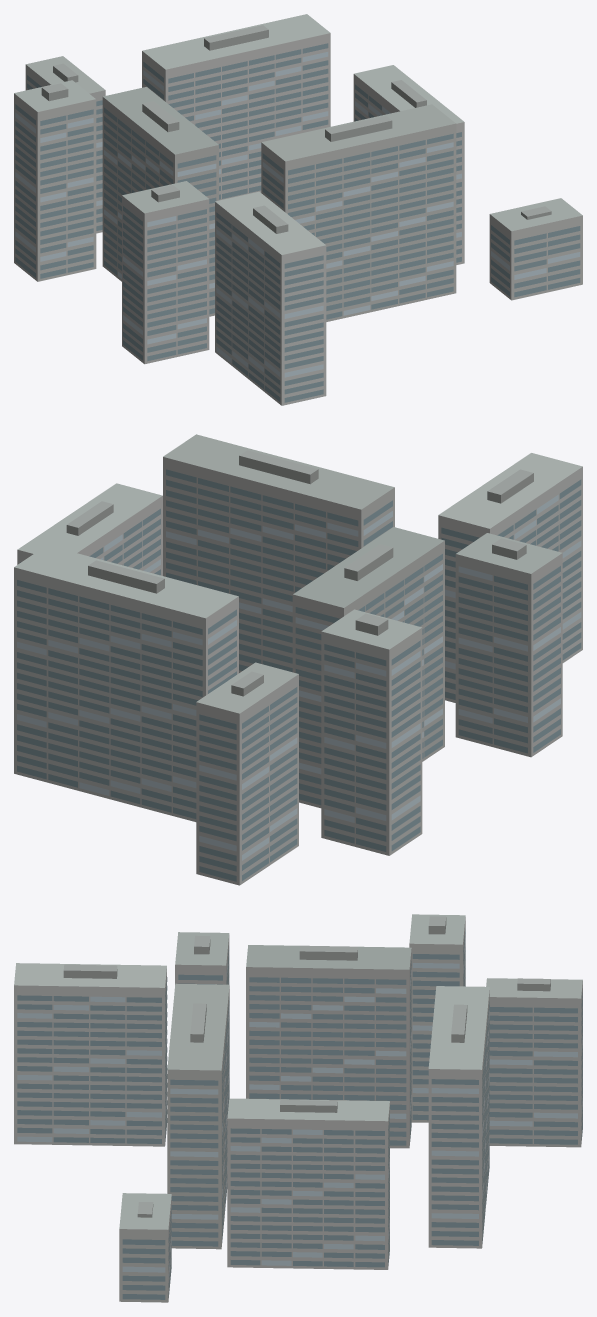
File: apt-a12282203.glb
3 renders of one model, top to bottom at view 1: azimuth 30°, elevation 25°; view 2: azimuth 150°, elevation 25°; view 3: azimuth 270°, elevation 25°, orthographic. The views are drawn at different scales.
Parts seen in each view (by area): view 1: apt-a12282203; view 2: apt-a12282203; view 3: apt-a12282203.
Part boxes in pixels (x1,y1,x2,y2): apt-a12282203: [14, 14, 582, 405]; apt-a12282203: [14, 434, 582, 885]; apt-a12282203: [14, 914, 582, 1302].
Size of the model in its own units: 131 by 54 by 149.
